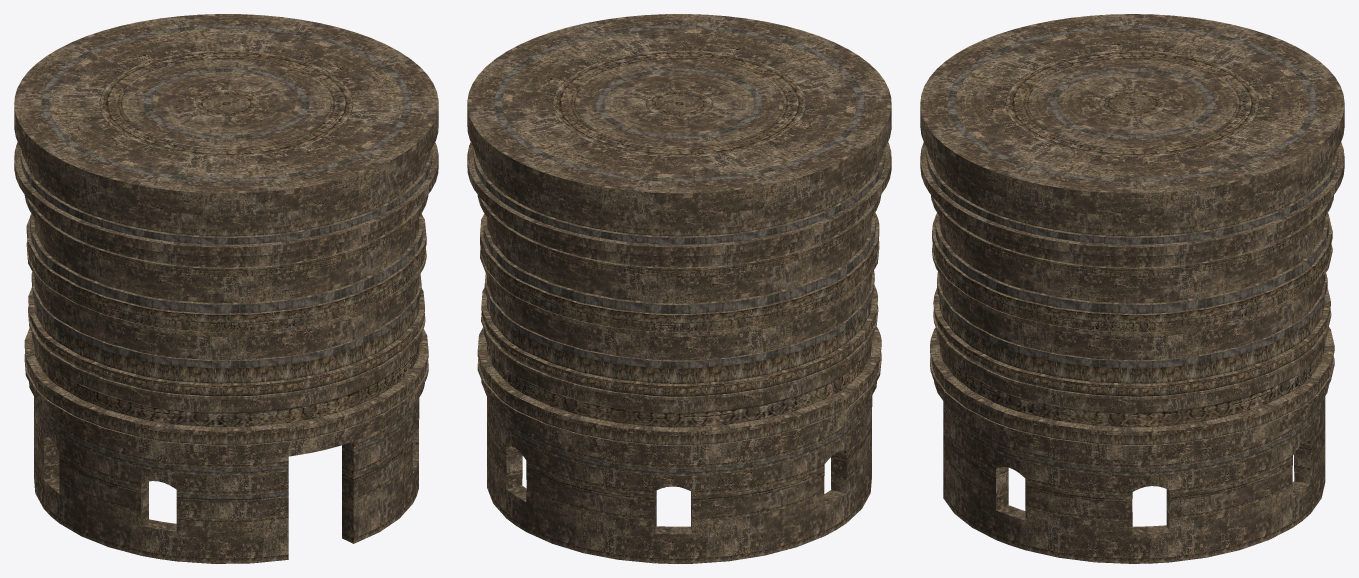
Rendered from materials_5_building_12.fbx.
3 renders of one model, left to right at view 1: azimuth 30°, elevation 25°; view 2: azimuth 150°, elevation 25°; view 3: azimuth 270°, elevation 25°, orthographic.
Visible parts, largest first — view 1: materials_5_building_12; view 2: materials_5_building_12; view 3: materials_5_building_12.
Boxes of the visible parts, box(x1,y1,x2,y2) form: materials_5_building_12: box(14, 14, 438, 563); materials_5_building_12: box(467, 14, 891, 563); materials_5_building_12: box(920, 14, 1344, 563).
Bounding box in the file's own units: 728 × 717 × 728.
